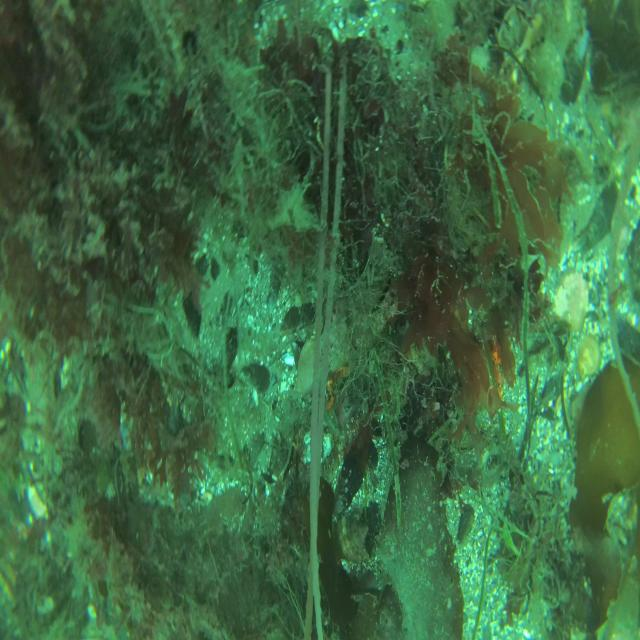scallop: (550, 263, 590, 335), (572, 330, 606, 384)
